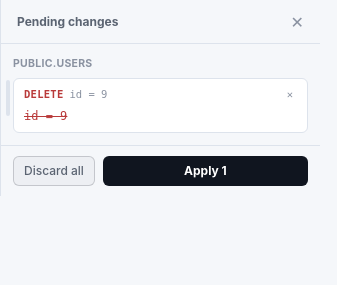
Test: PendingPanel › says the row is gone rather than reporting a NULL it did not find
Step 1. Click the button "Apply 1" → (205, 170), box [103,156,308,186]
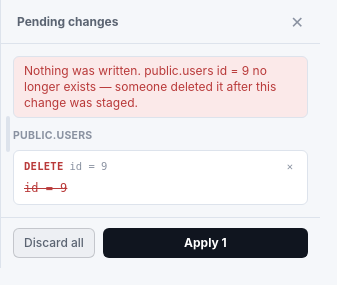
Expected: the message is shown, [13,56,308,118]
